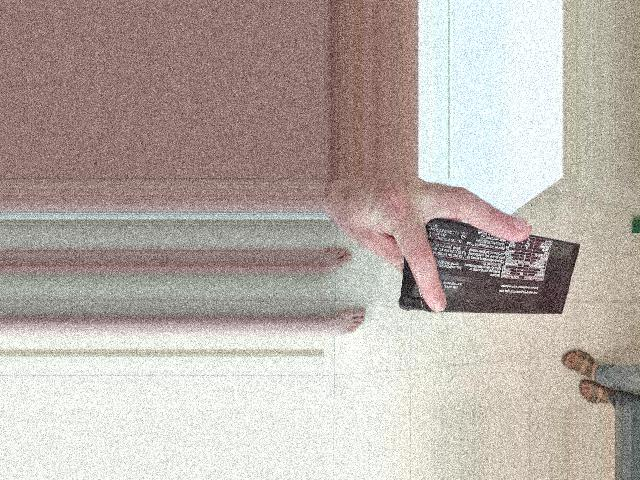chocolate: (438, 221, 541, 414)
